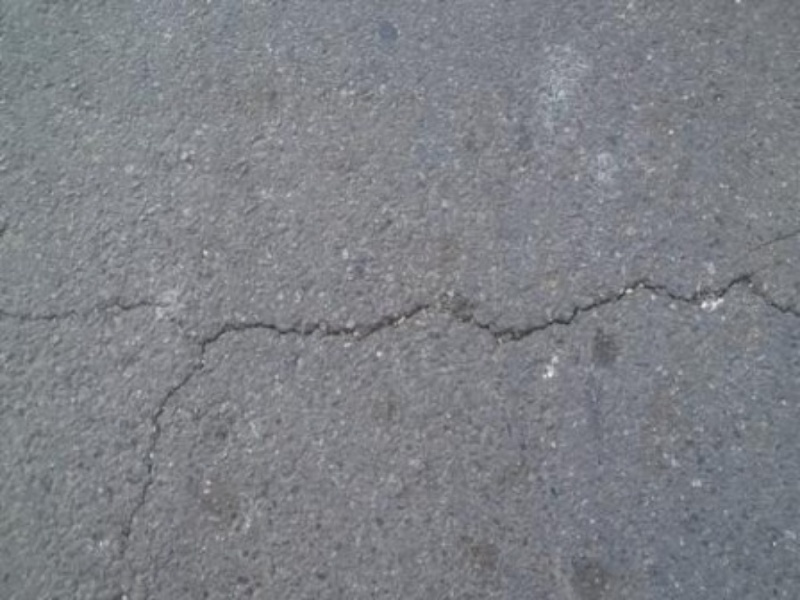crack: (103, 250, 791, 561), (1, 285, 196, 352)
